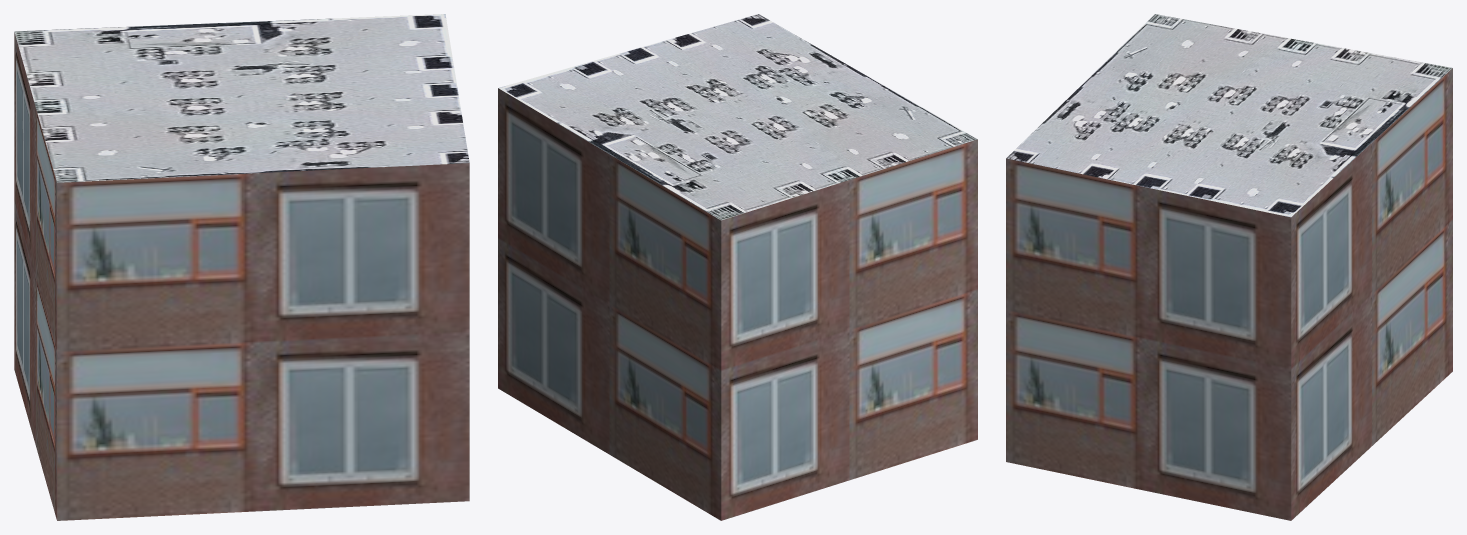
Rendered from ResTex__1224.fbx.
3 views of the same model, side by side, from view 1: azimuth 30°, elevation 25°; view 2: azimuth 150°, elevation 25°; view 3: azimuth 270°, elevation 25° (orthographic). The views are drawn at different scales.
Parts seen in each view (by area): view 1: CityEngineMaterial_19_m, CityEngineMaterial_15_m; view 2: CityEngineMaterial_19_m, CityEngineMaterial_15_m; view 3: CityEngineMaterial_19_m, CityEngineMaterial_15_m.
Boxes of the visible parts, <box> form: CityEngineMaterial_19_m: <box>14,32,469,520</box>; CityEngineMaterial_15_m: <box>14,14,469,182</box>; CityEngineMaterial_19_m: <box>498,88,977,520</box>; CityEngineMaterial_15_m: <box>498,14,977,220</box>; CityEngineMaterial_19_m: <box>1006,68,1452,520</box>; CityEngineMaterial_15_m: <box>1006,14,1452,217</box>.
Bounding box in the file's own units: 8.62 × 6 × 8.
Materials: 2 (2 with a texture image).
